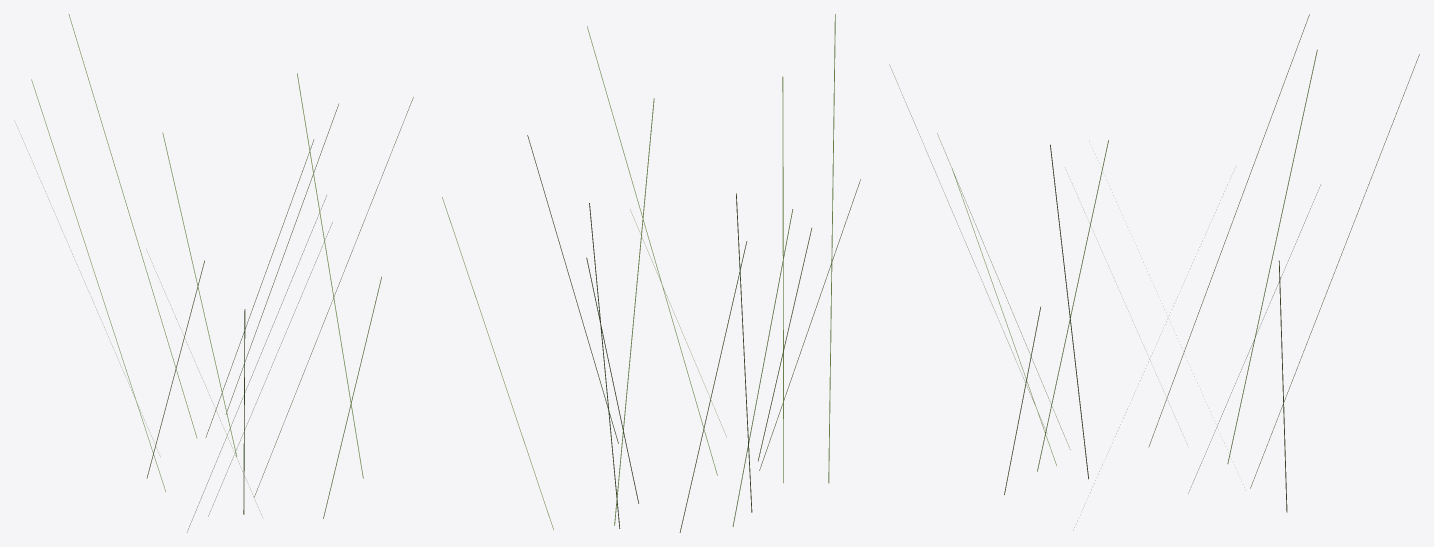
File: tall_grass_lod2.glb
3 views of the same model, side by side, from view 1: azimuth 30°, elevation 25°; view 2: azimuth 150°, elevation 25°; view 3: azimuth 270°, elevation 25° (orthographic). The views are drawn at different scales.
Parts seen in each view (by area): view 1: Leaves; view 2: Leaves; view 3: Leaves.
Part boxes in pixels (x1,y1,x2,y2): Leaves: (14, 14, 413, 532); Leaves: (442, 14, 860, 532); Leaves: (889, 14, 1419, 530).
Bounding box in the file's own units: 0.7119 × 0.84 × 0.9876.
